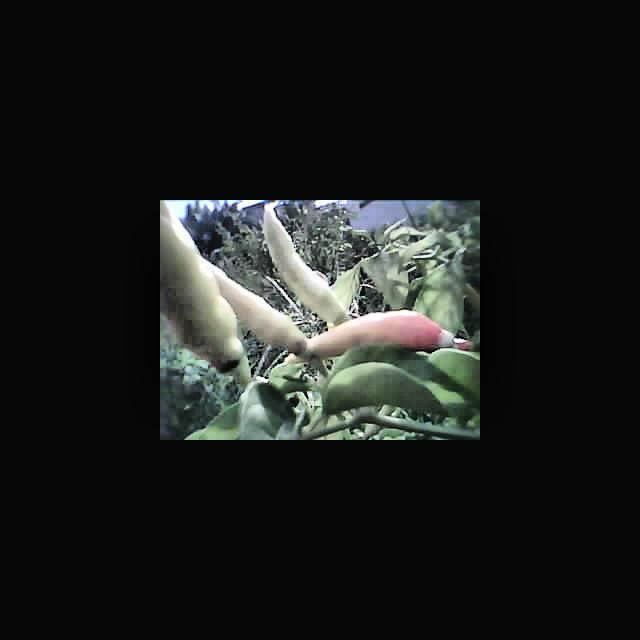Cabai: (315, 313, 460, 345)
